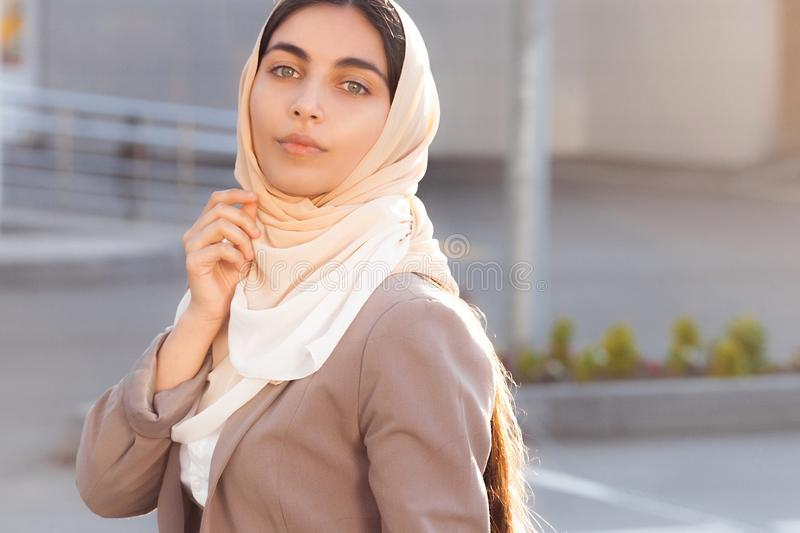No Mask: (216, 3, 444, 251)
